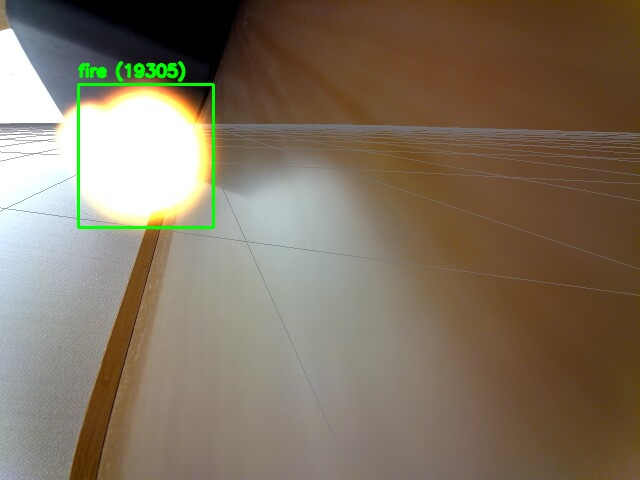fire: (78, 84, 213, 227)
